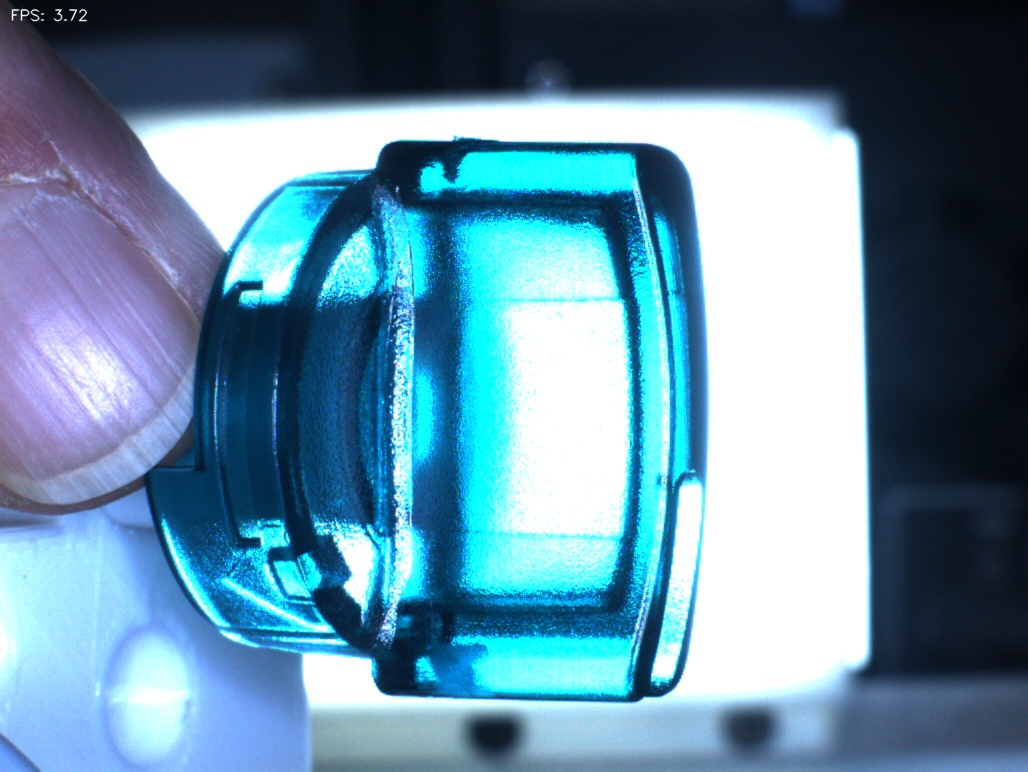Bulle: (411, 118, 509, 225)
